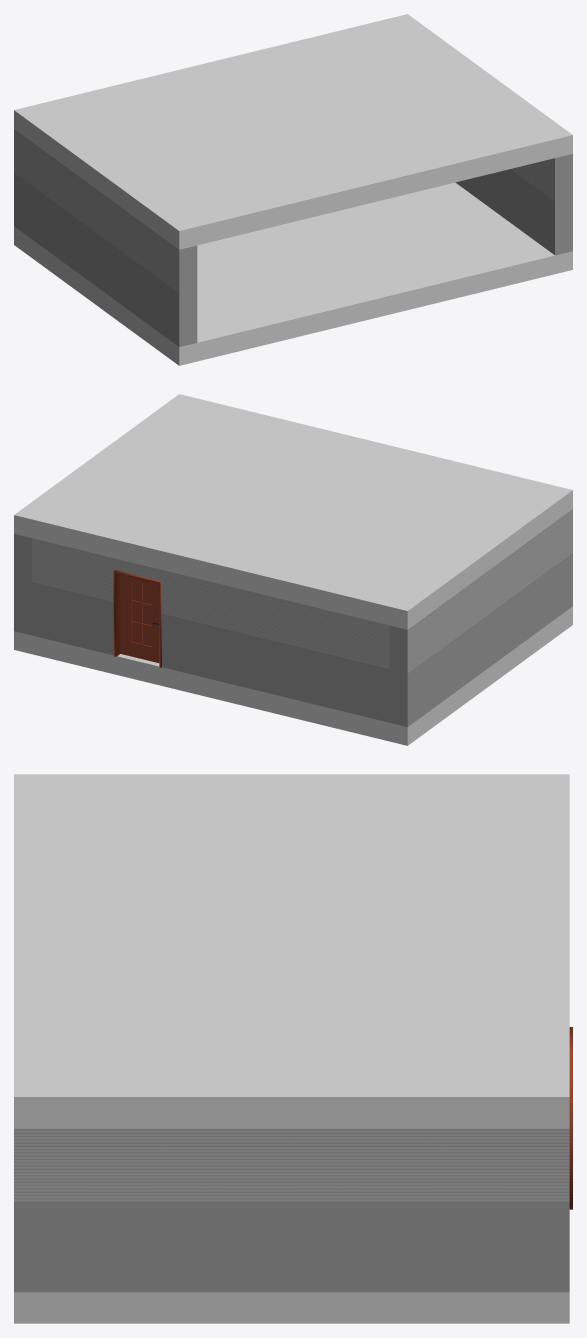
The model's file is Küche.fbx_W_nde.fbx.
3 views of the same model, one above another, from view 1: azimuth 30°, elevation 25°; view 2: azimuth 150°, elevation 25°; view 3: azimuth 270°, elevation 25° (orthographic). The views are drawn at different scales.
Visible parts, largest first — view 1: Decke, Cube.002, Wand normal.023, Wand normal.001, Wand normal.024, Wand normal.025, Wand normal.026, Wand normal.016; view 2: Decke, Cube.002, Wand normal.020, Wand normal.021, Wand normal.022, Wand normal.019, Wand normal.026, Wand normal.025, Wand normal.023, Wand normal.024, Tür.003, Wand Durchgang.001 (+2 smaller); view 3: Decke, Wand normal.017, Wand normal.018, Wand normal.001, Wand normal.016, Cube.002, Durchgang.003.
Part boxes in pixels (x1,y1,x2,y2): Decke: (14, 14, 572, 249); Cube.002: (14, 182, 572, 365); Wand normal.023: (138, 220, 197, 346); Wand normal.001: (513, 154, 572, 255); Wand normal.024: (96, 189, 137, 316); Wand normal.025: (55, 159, 96, 286); Wand normal.026: (14, 129, 55, 255); Wand normal.016: (472, 168, 513, 224); Decke: (14, 394, 572, 629); Cube.002: (14, 606, 572, 745); Wand normal.020: (246, 590, 318, 705); Wand normal.021: (175, 573, 246, 687); Wand normal.022: (318, 608, 389, 722); Wand normal.019: (32, 538, 103, 652); Wand normal.026: (389, 600, 448, 726); Wand normal.025: (449, 569, 490, 696); Wand normal.023: (531, 509, 572, 635); Wand normal.024: (490, 539, 531, 666); Tür.003: (120, 574, 159, 662); Wand Durchgang.001: (103, 555, 174, 670); Decke: (14, 774, 569, 1128); Wand normal.017: (291, 1128, 430, 1292); Wand normal.018: (430, 1128, 569, 1292); Wand normal.001: (14, 1128, 152, 1292); Wand normal.016: (153, 1128, 291, 1292); Cube.002: (14, 1292, 569, 1323); Durchgang.003: (569, 1027, 572, 1209).
Size of the model in its own units: 1100 by 360 by 805.
